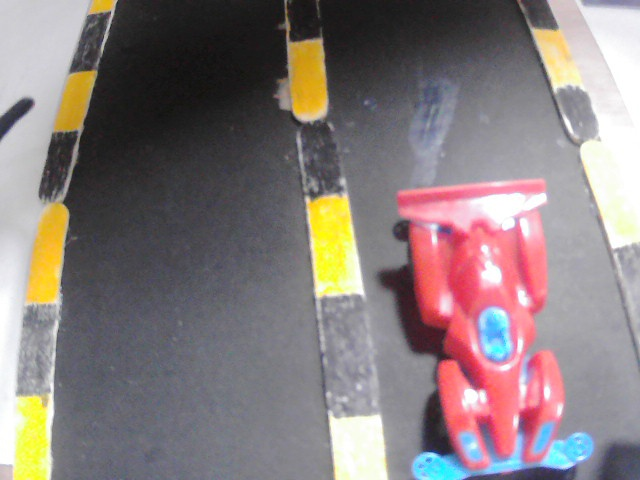car: (383, 180, 595, 480)
